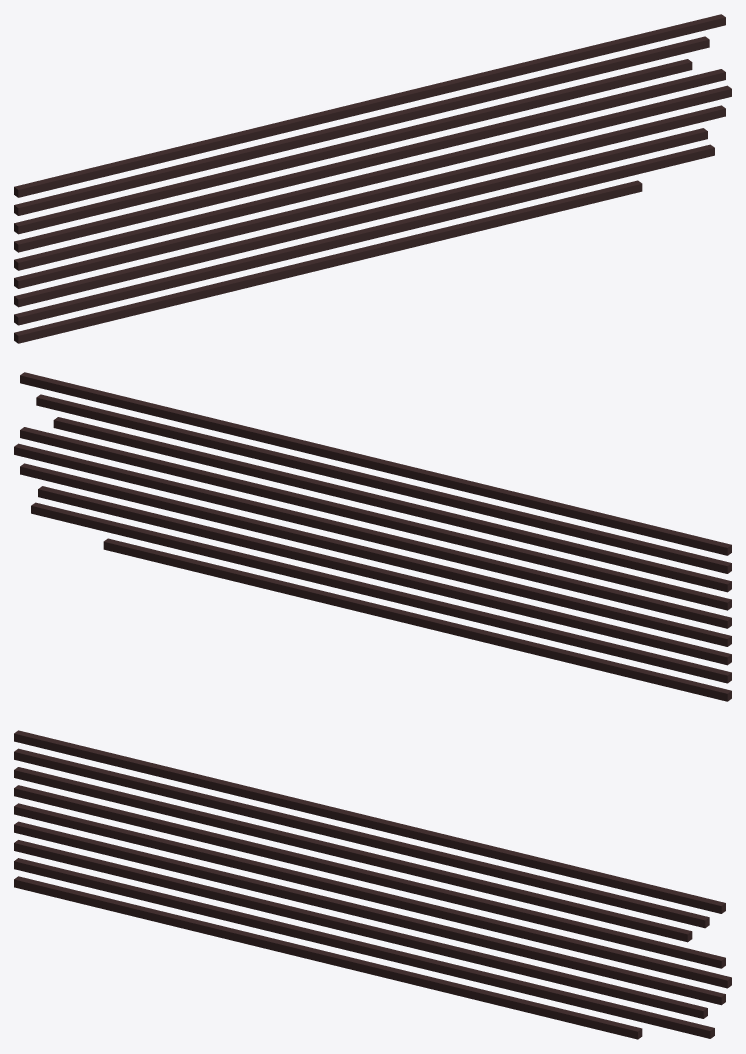
Rendered from wall.3.obj.
3 renders of one model, top to bottom at view 1: azimuth 30°, elevation 25°; view 2: azimuth 150°, elevation 25°; view 3: azimuth 330°, elevation 25°, orthographic.
Visible parts, largest first — view 1: Cube.006; view 2: Cube.006; view 3: Cube.006.
Part boxes in pixels (x1,y1,x2,y2): Cube.006: [14, 14, 731, 343]; Cube.006: [14, 372, 731, 701]; Cube.006: [14, 730, 731, 1039].
Size of the model in its own units: 13.24 by 2.73 by 0.1406.
